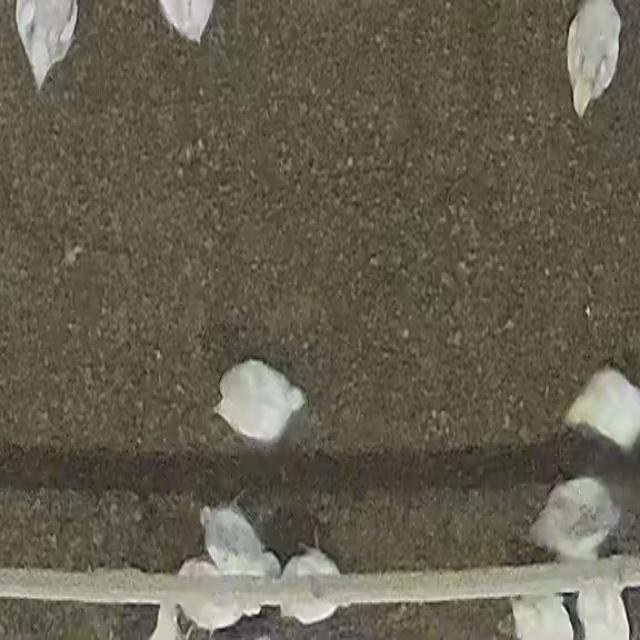chicken: (210, 353, 307, 451), (529, 476, 620, 562), (563, 0, 621, 121), (564, 364, 640, 456), (178, 561, 262, 629), (278, 538, 344, 624), (200, 509, 278, 576)
